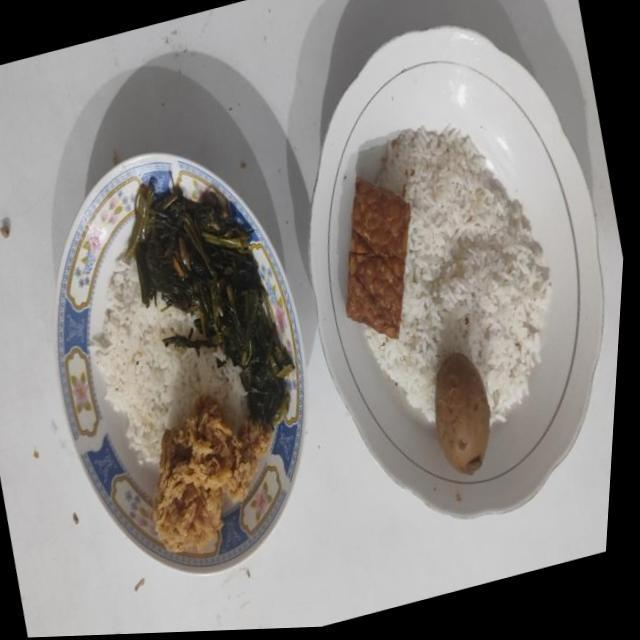nasi_putih: (365, 127, 551, 420), (90, 256, 247, 463)
tempe_goreng: (346, 176, 410, 338)
tumis_kangkung: (124, 176, 294, 426)
